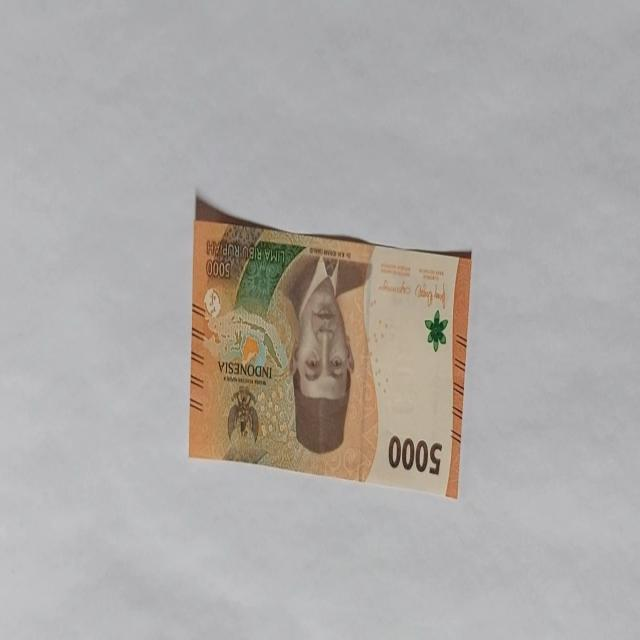lima ribu rupiah: (188, 193, 472, 499), (283, 253, 356, 454)
